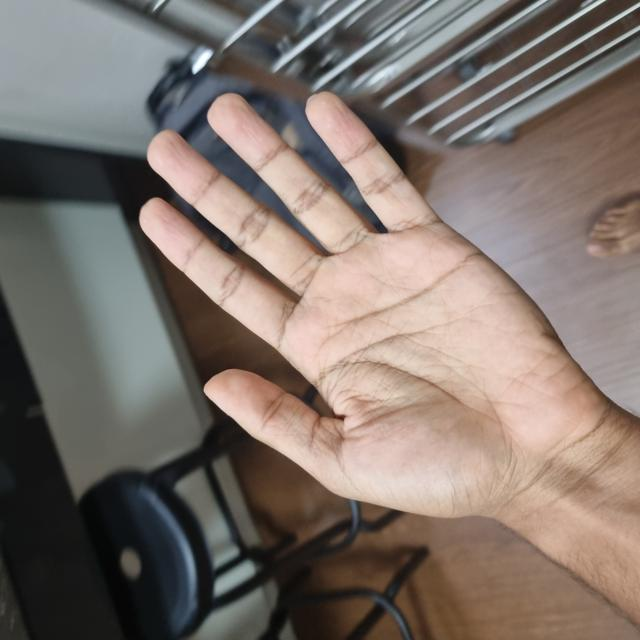Paper: (123, 138, 547, 588)
